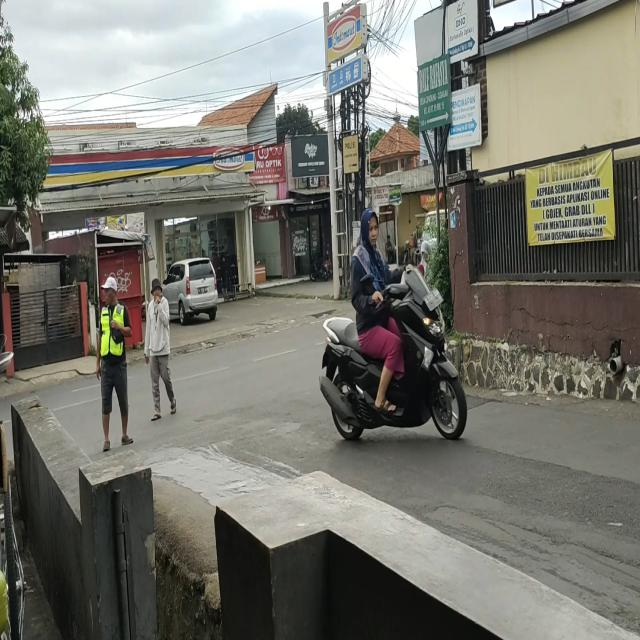no-helmet: (362, 208, 379, 246)
